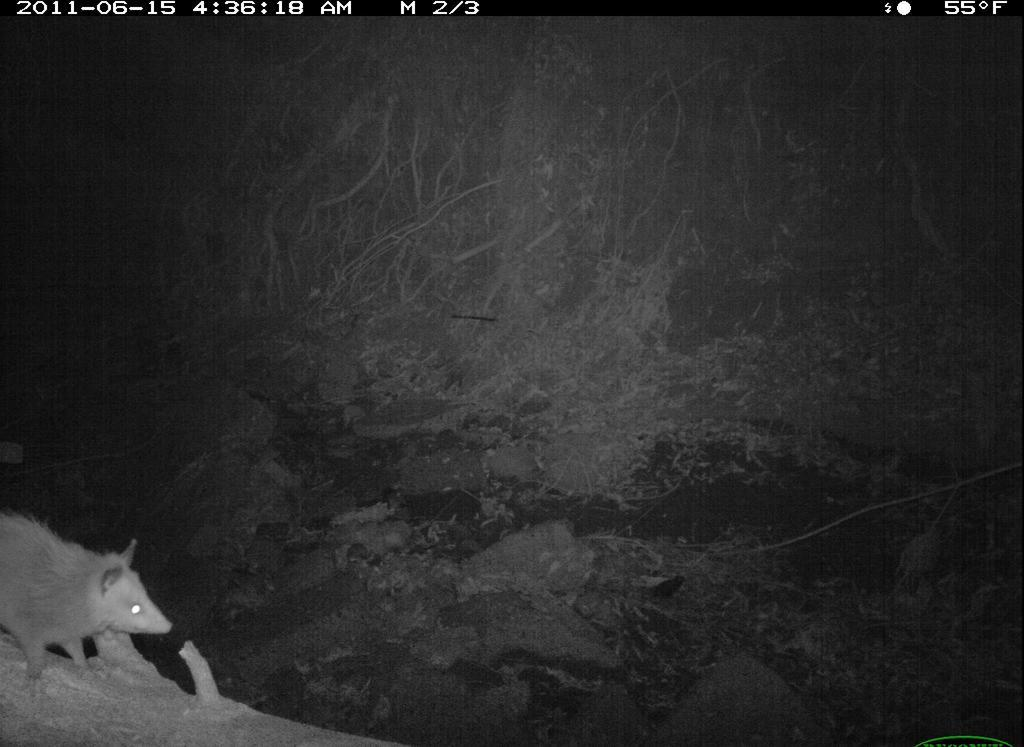opossum: (1, 496, 182, 688)
